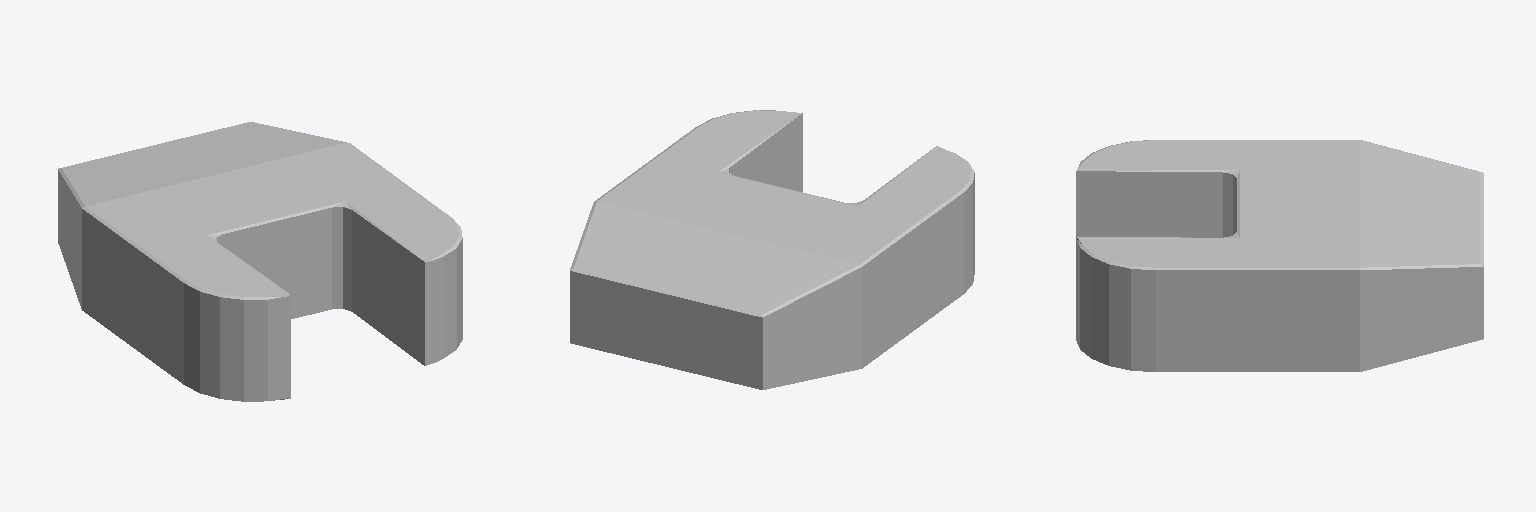
Rendered from rail_gun_turret.obj.
3 views of the same model, side by side, from view 1: azimuth 30°, elevation 25°; view 2: azimuth 150°, elevation 25°; view 3: azimuth 270°, elevation 25° (orthographic).
Size of the model in its own units: 7.77 by 2.89 by 10.23.